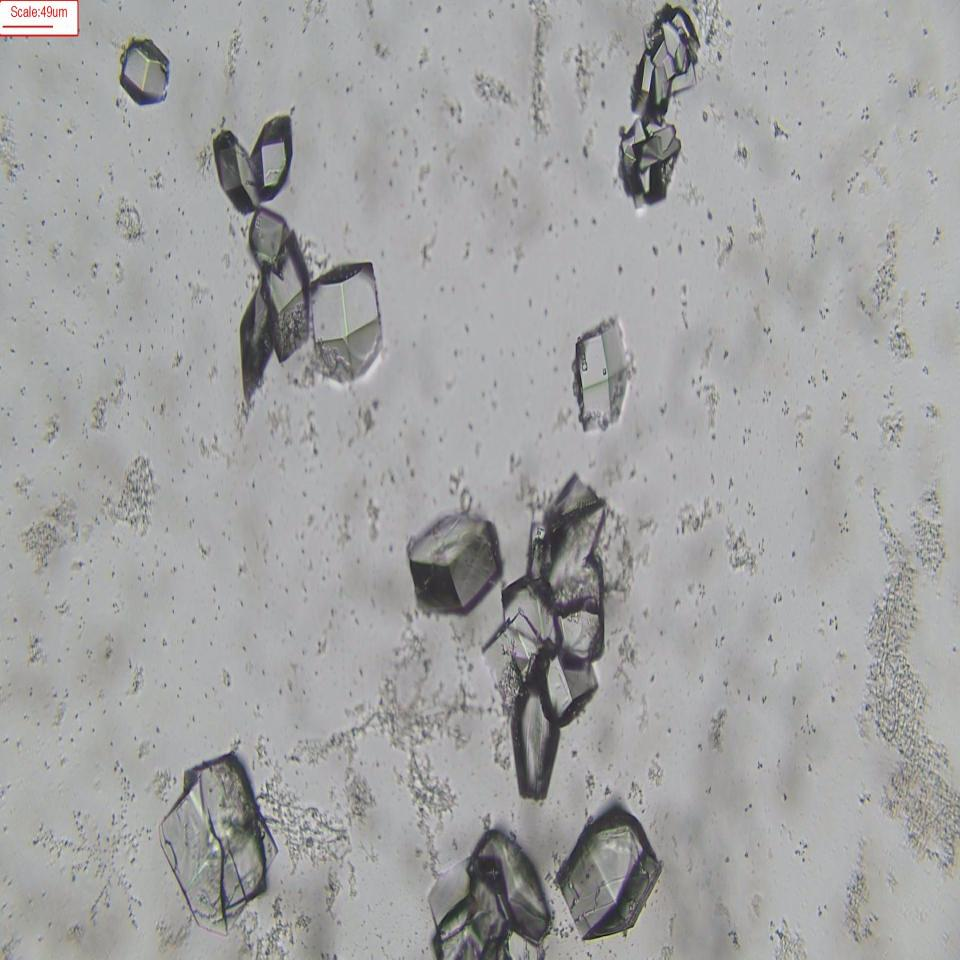crystal: (155, 766, 274, 919), (554, 802, 661, 938), (310, 268, 394, 385), (404, 514, 502, 611), (575, 324, 634, 432), (619, 118, 684, 206), (236, 279, 276, 396), (119, 39, 177, 111), (208, 128, 258, 209), (245, 201, 286, 274), (252, 119, 291, 192)
not_crystal: (493, 594, 592, 788), (527, 501, 606, 657), (434, 852, 538, 956), (631, 4, 695, 116)
